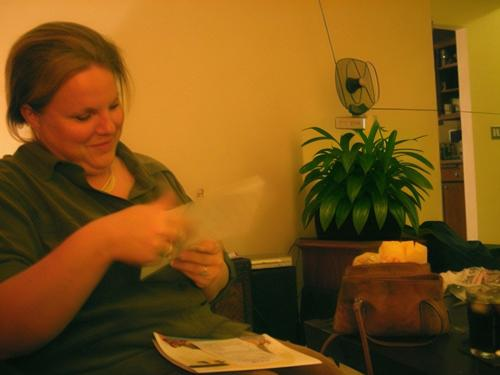person: (2, 22, 339, 375)
person/hand: (120, 203, 185, 270), (172, 240, 227, 293)
person/head: (9, 20, 126, 172)
pottedplant: (300, 122, 433, 240)
